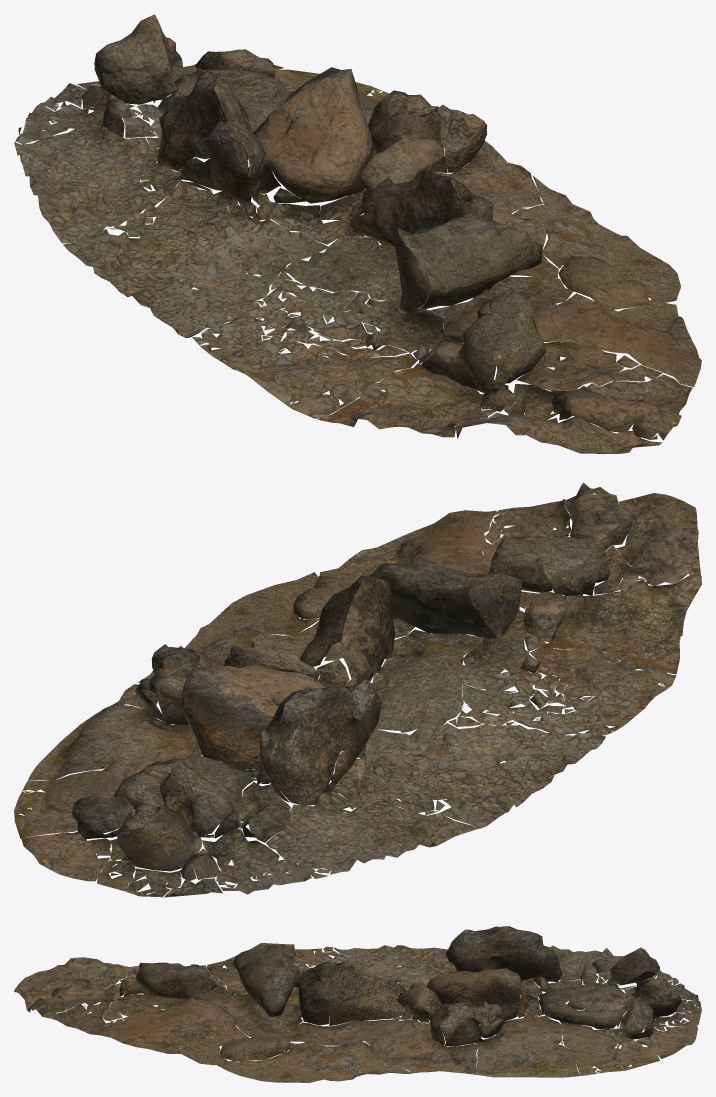
The model's file is CoastLandRocks.glb.
3 views of the same model, one above another, from view 1: azimuth 30°, elevation 25°; view 2: azimuth 150°, elevation 25°; view 3: azimuth 270°, elevation 25° (orthographic). The views are drawn at different scales.
Visible parts, largest first — view 1: CoastLandRocks; view 2: CoastLandRocks; view 3: CoastLandRocks.
Boxes of the visible parts, bbox=[...] form: CoastLandRocks: bbox=[14, 14, 701, 453]; CoastLandRocks: bbox=[14, 482, 701, 897]; CoastLandRocks: bbox=[14, 926, 701, 1082].
Bounding box in the file's own units: 4.89 × 1.37 × 10.44.
Materials: 1 (1 with a texture image).
